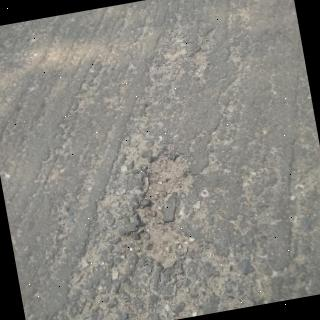pothole: (128, 152, 197, 272)
